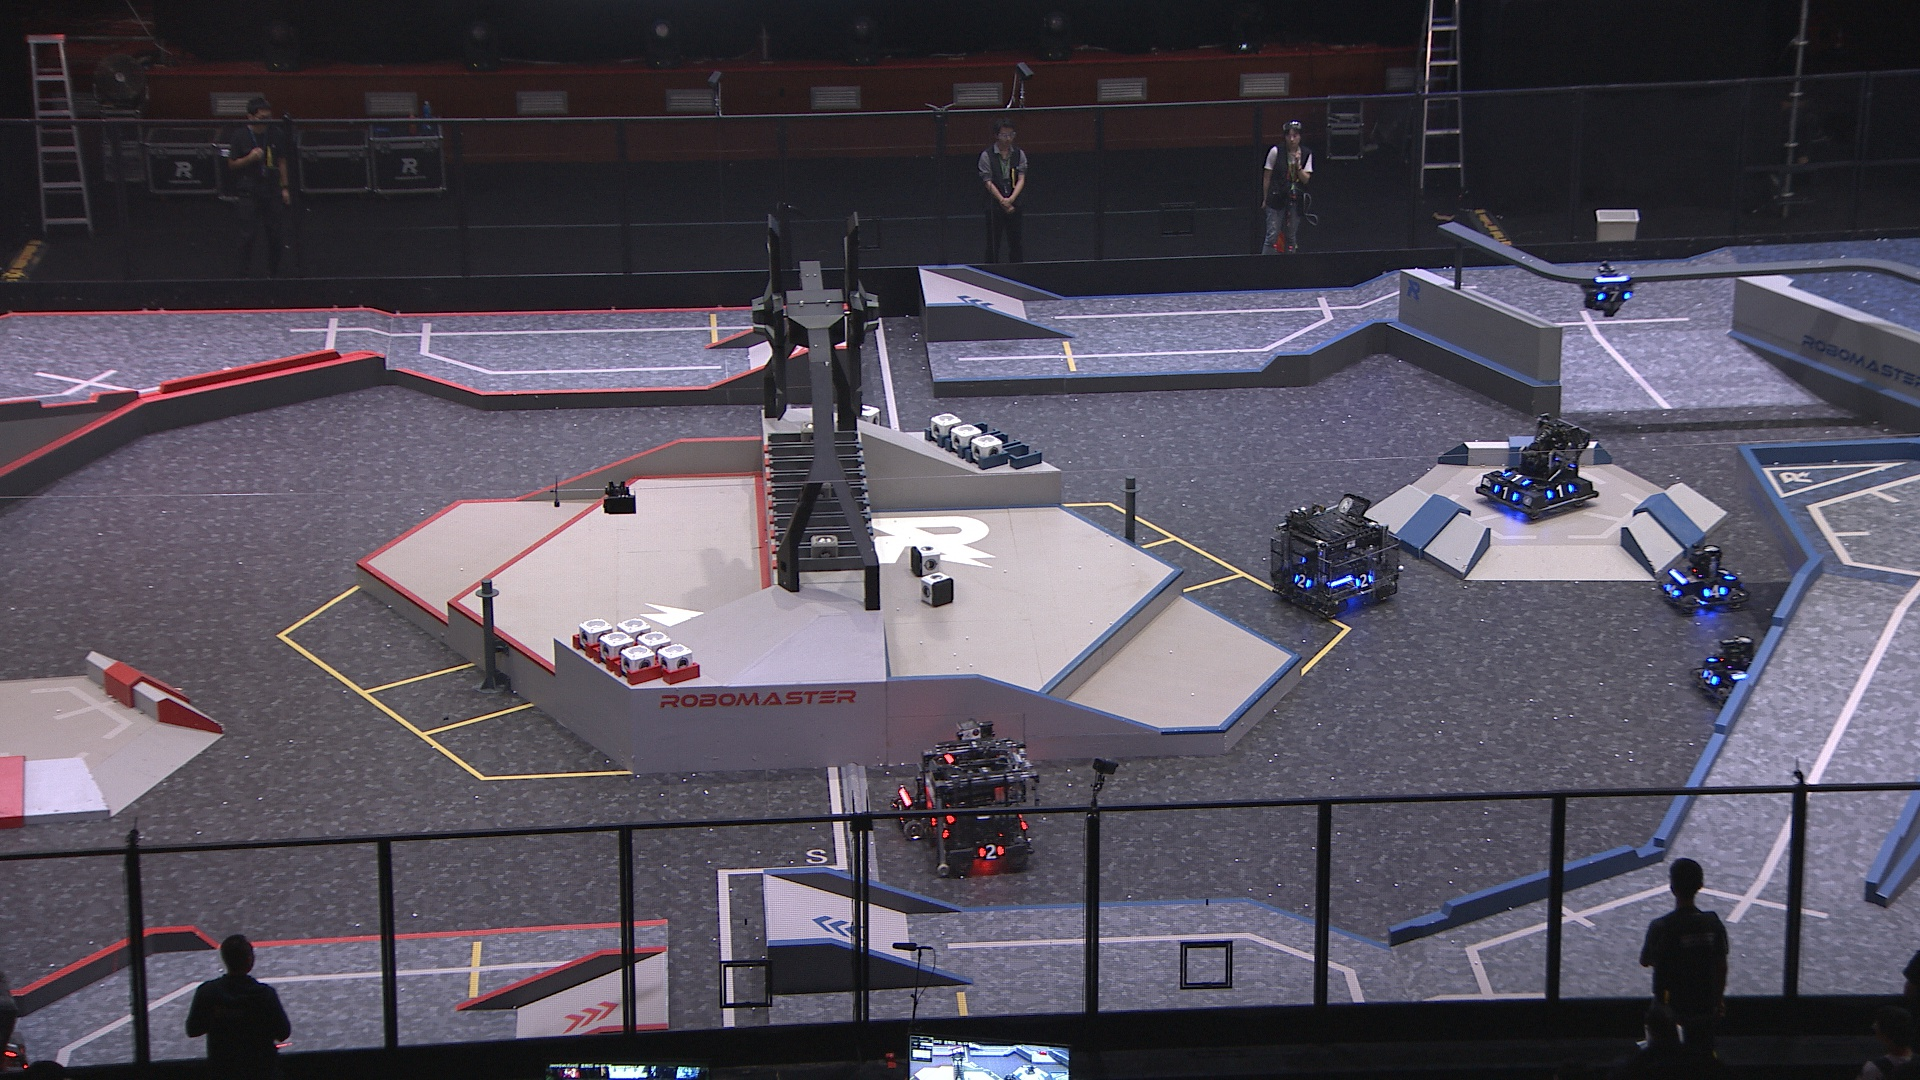armor: (1489, 483, 1523, 504), (1543, 484, 1576, 502), (1501, 472, 1531, 489), (1596, 291, 1633, 305), (978, 844, 1006, 861), (1290, 572, 1315, 591), (1698, 669, 1721, 688), (1700, 584, 1727, 600), (1, 1038, 21, 1059), (1352, 572, 1375, 589), (1662, 583, 1681, 603), (1716, 566, 1735, 580)
car: (916, 740, 1048, 880), (1267, 493, 1404, 618), (1474, 410, 1600, 522), (1656, 542, 1747, 613), (1689, 633, 1766, 705), (891, 766, 964, 841)
watcher: (1581, 261, 1636, 316)
